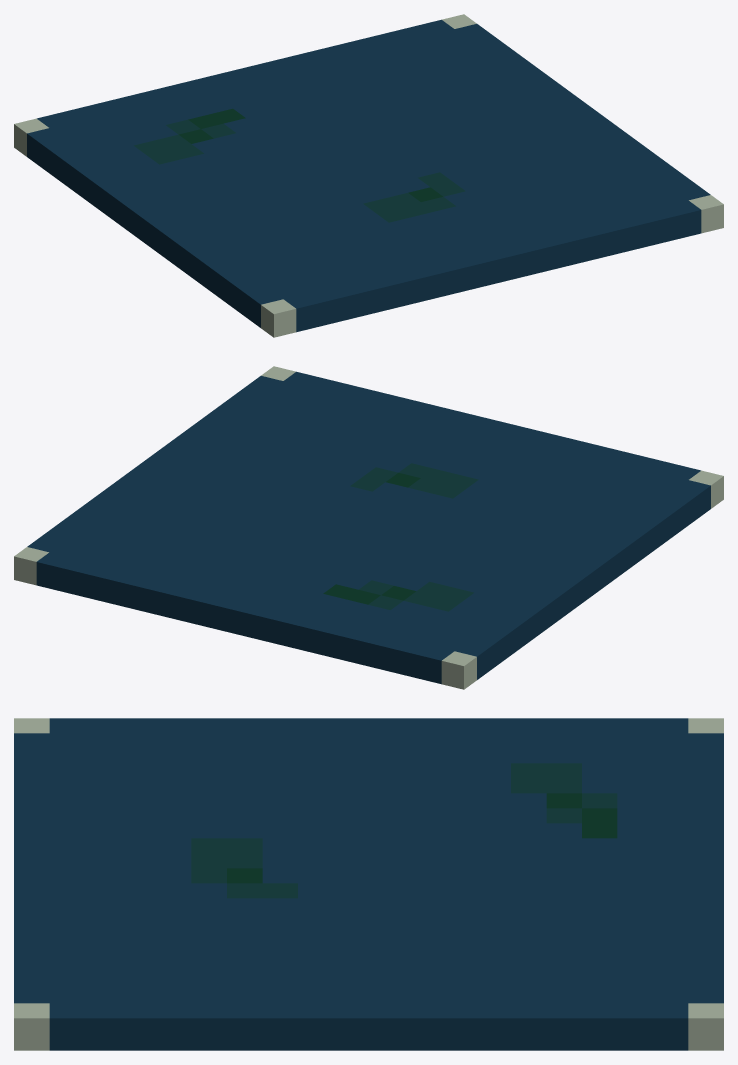
The model's file is BlueRig_CrossSection_01.obj.
3 renders of one model, top to bottom at view 1: azimuth 30°, elevation 25°; view 2: azimuth 150°, elevation 25°; view 3: azimuth 270°, elevation 25°, orthographic. The views are drawn at different scales.
Visible parts, largest first — view 1: BlueRig_CrossSection_01.001; view 2: BlueRig_CrossSection_01.001; view 3: BlueRig_CrossSection_01.001.
Boxes of the visible parts, x1=… form: BlueRig_CrossSection_01.001: x1=14, y1=14, x2=723, y2=337; BlueRig_CrossSection_01.001: x1=14, y1=366, x2=723, y2=689; BlueRig_CrossSection_01.001: x1=14, y1=718, x2=723, y2=1050.
Bounding box in the file's own units: 2 × 0.1 × 2.
